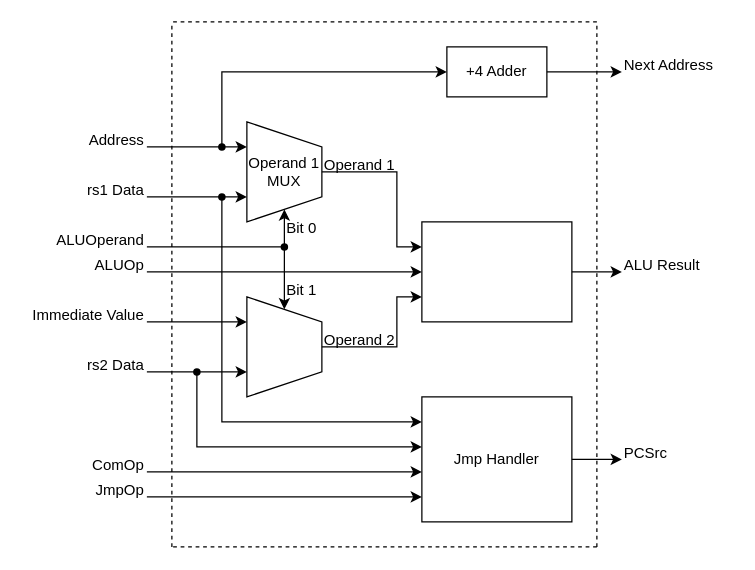
The diagram is 755 pixels wide and 570 high, and some of its shapes have lost their labels. Here are the shapes that lost their labels. From the top down, the centre of each, then its label:
At point (496, 271): "ALU".
At point (284, 346): "Operand 2 MUX".
